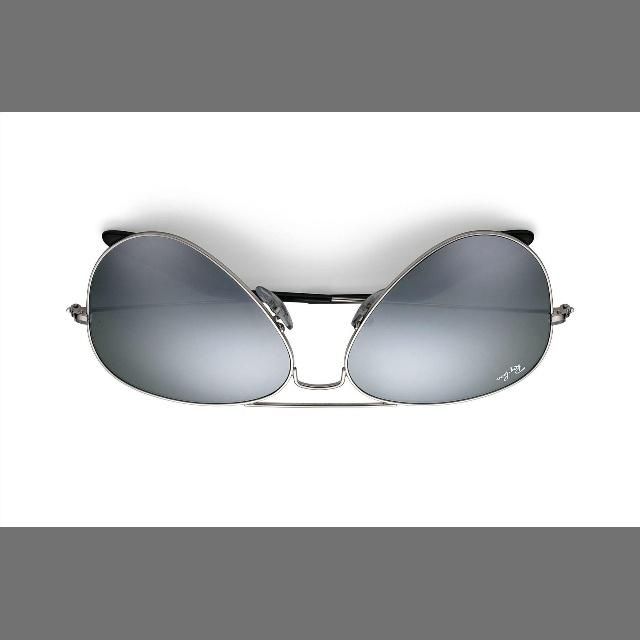Sunglasses: (44, 188, 620, 432)
